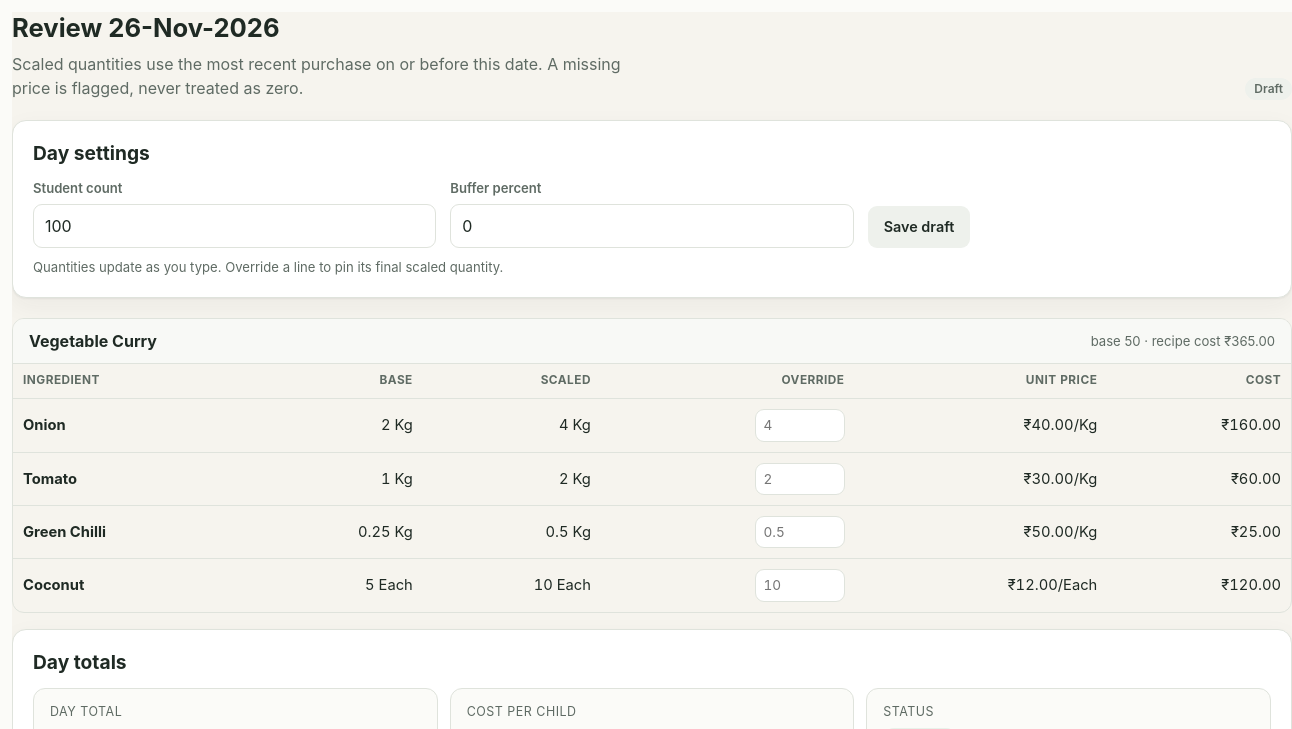
DailyReview screen › recalculates scaled quantities when the student count changes
Expected: the heading "Vegetable Curry" is shown, [29, 331, 157, 351]
Replace the text in the number field labelled "Student count" with "50" at {"x": 235, "y": 226}, box [33, 204, 436, 248]
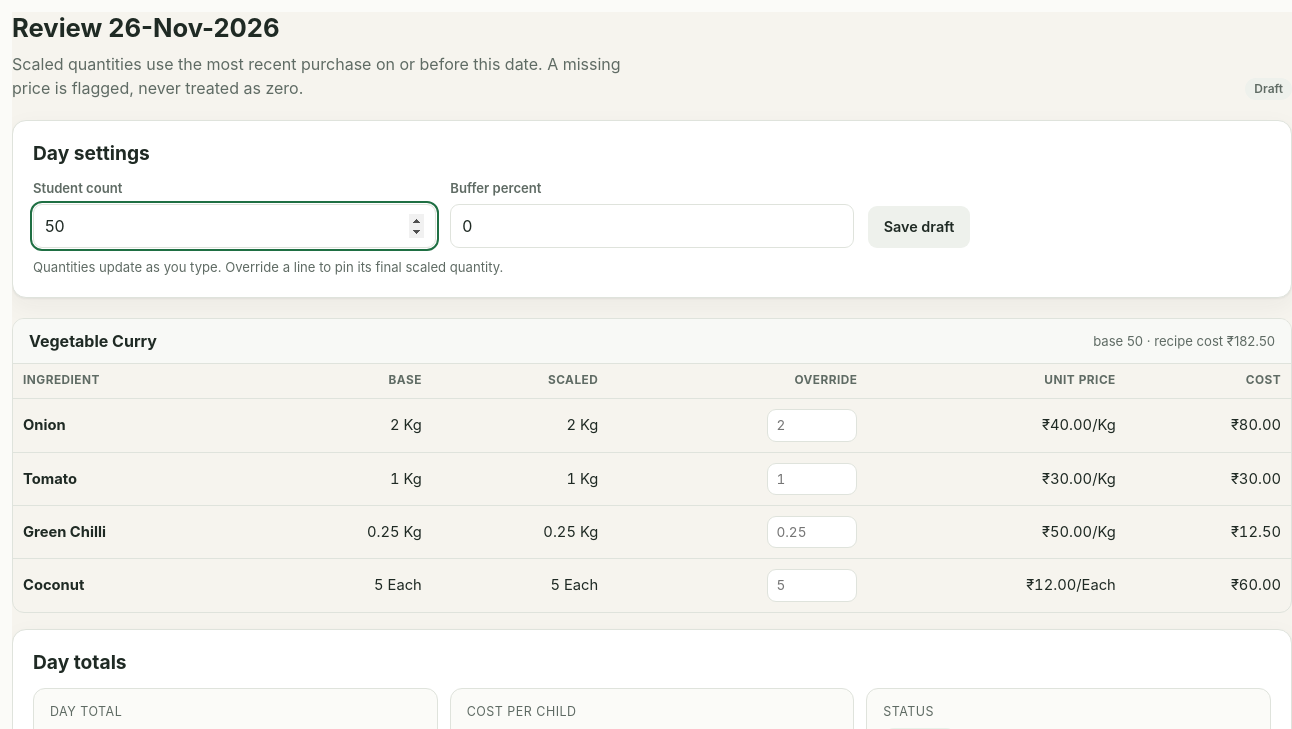
Now the text "₹80.00" is shown, box [1126, 399, 1291, 452]
